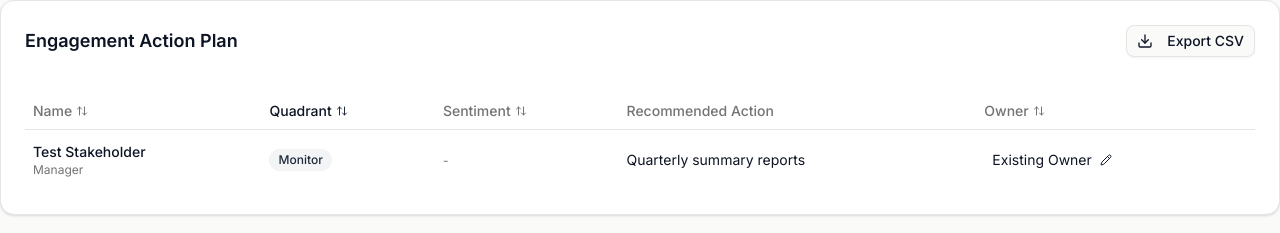
Test: EngagementActionTable › owner editing › pre-fills input with current owner
Click the button "Existing Owner" at x=1052, y=160, box [984, 146, 1120, 174]
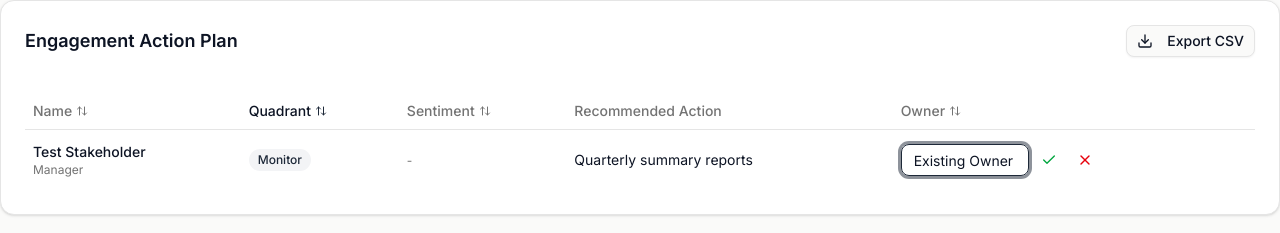
Result: the field showing "Existing Owner" is shown at [901, 144, 1029, 176]
